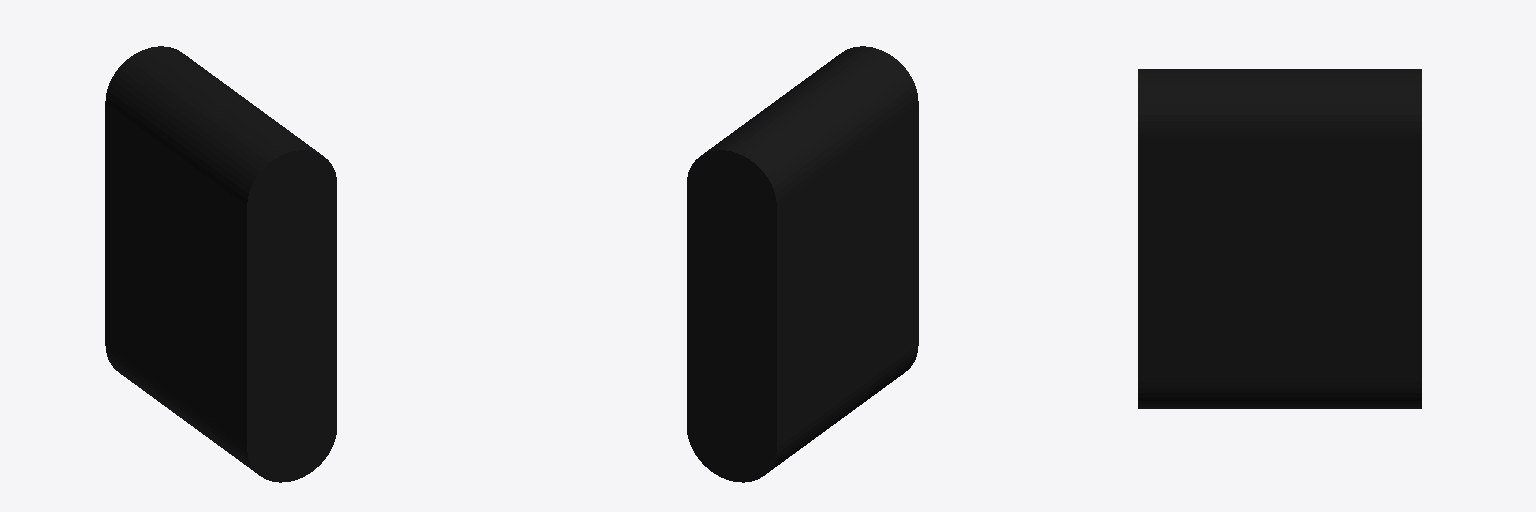
Rendered from chiminea.obj.
3 views of the same model, side by side, from view 1: azimuth 30°, elevation 25°; view 2: azimuth 150°, elevation 25°; view 3: azimuth 270°, elevation 25° (orthographic).
Visible parts, largest first — view 1: path3824; view 2: path3824; view 3: path3824.
Boxes of the visible parts, x1=… form: path3824: x1=105, y1=46, x2=336, y2=482; path3824: x1=687, y1=46, x2=918, y2=482; path3824: x1=1138, y1=69, x2=1421, y2=408.
Size of the model in its own units: 2.6 by 5.13 by 4.